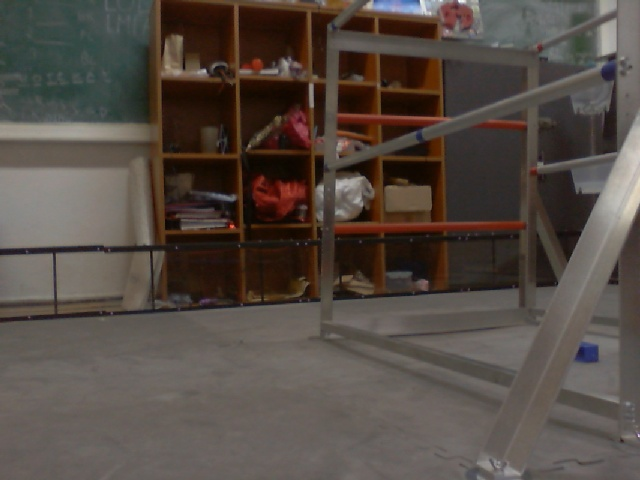BlueSample: (572, 340, 602, 362)
